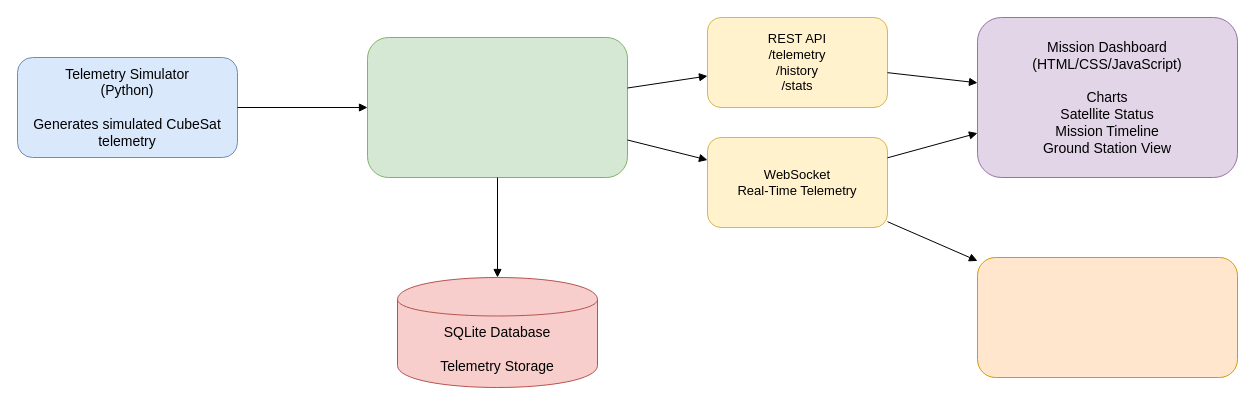
The diagram is 1255 pixels wide and 405 high, and some of its shapes have lost their labels. The centre of each missing label's shape, as x and y in pixels:
"Chrome Extension Quick Mission Status Notifications Latest Telemetry" belongs at (1107,317).
"Mission Control Server (FastAPI) Business Logic Mission Services API Gateway" belongs at (497,107).
